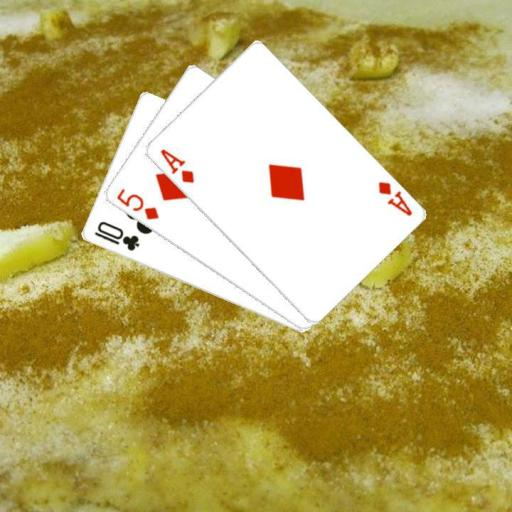10C: (90, 218, 141, 253)
5D: (112, 185, 160, 222)
AD: (157, 145, 196, 185), (374, 179, 413, 218)
